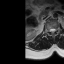CCS_normal: (51, 26, 53, 35)
LFS_normal: (56, 26, 58, 32)
LLS_normal: (53, 26, 56, 33)
RFS_normal: (47, 27, 49, 33)
RLS_normal: (49, 26, 51, 34)
